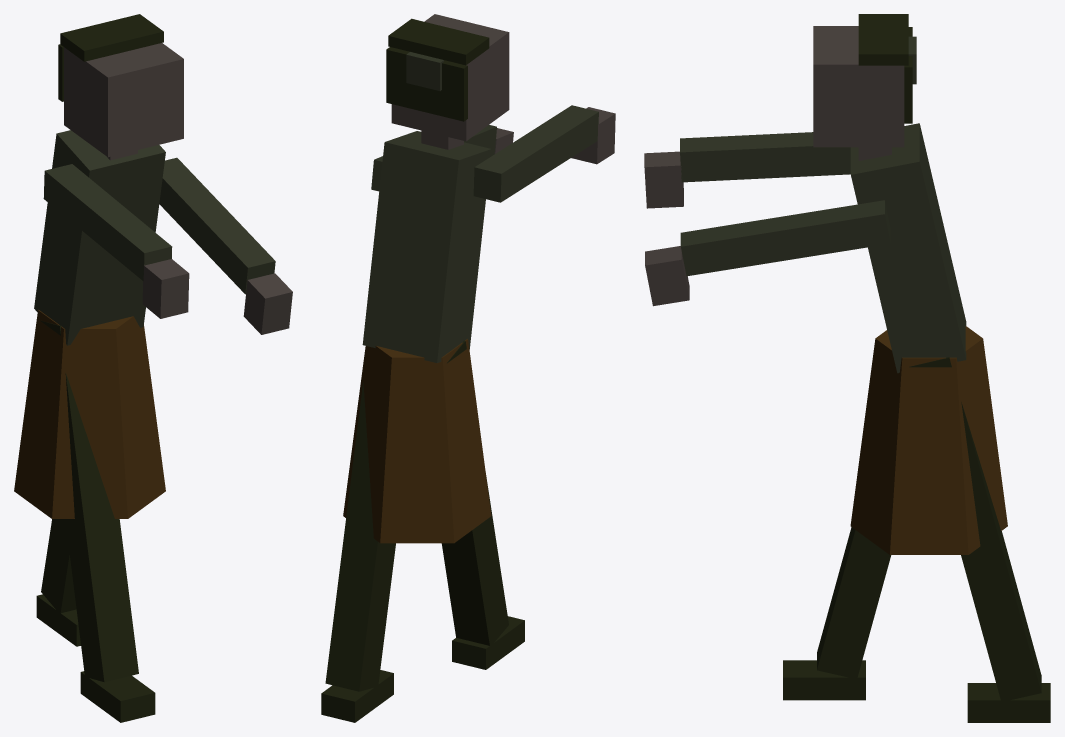
Rendered from SM_ZombiFino_v4_Falda_LOD0.fbx.
3 renders of one model, left to right at view 1: azimuth 30°, elevation 25°; view 2: azimuth 150°, elevation 25°; view 3: azimuth 270°, elevation 25°, orthographic. The views are drawn at different scales.
Parts seen in each view (by area): view 1: SM_zombi_fino_v4_LOD0; view 2: SM_zombi_fino_v4_LOD0; view 3: SM_zombi_fino_v4_LOD0.
Boxes of the visible parts, x1,y1,x2,y2 form: SM_zombi_fino_v4_LOD0: [14, 14, 292, 722]; SM_zombi_fino_v4_LOD0: [321, 14, 615, 722]; SM_zombi_fino_v4_LOD0: [644, 14, 1050, 722].
Bounding box in the file's own units: 0.38 × 1.78 × 0.9796.
